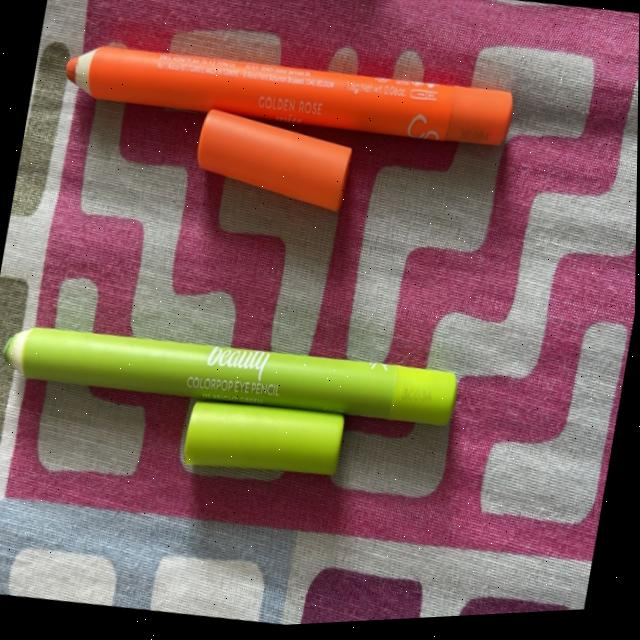lip liner: (19, 0, 537, 285), (0, 253, 509, 522)
